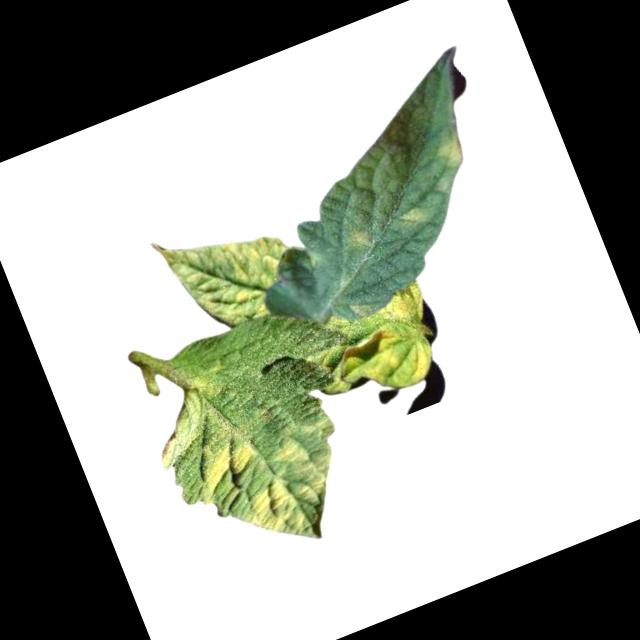Leaf_Mold: (139, 343, 374, 583), (151, 196, 309, 345), (330, 314, 443, 409), (375, 276, 435, 332), (427, 129, 473, 174), (390, 197, 439, 238), (343, 221, 380, 257)
